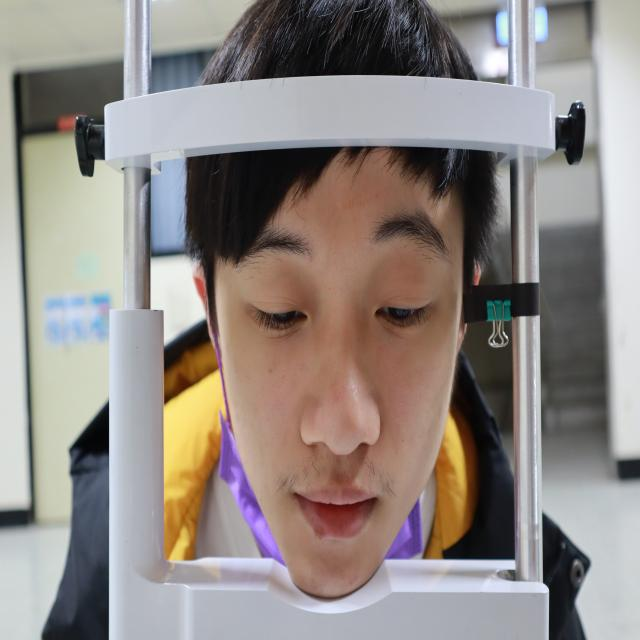eye: (368, 285, 444, 344), (244, 287, 312, 344)
gaze: (386, 300, 412, 325), (272, 304, 296, 328)
